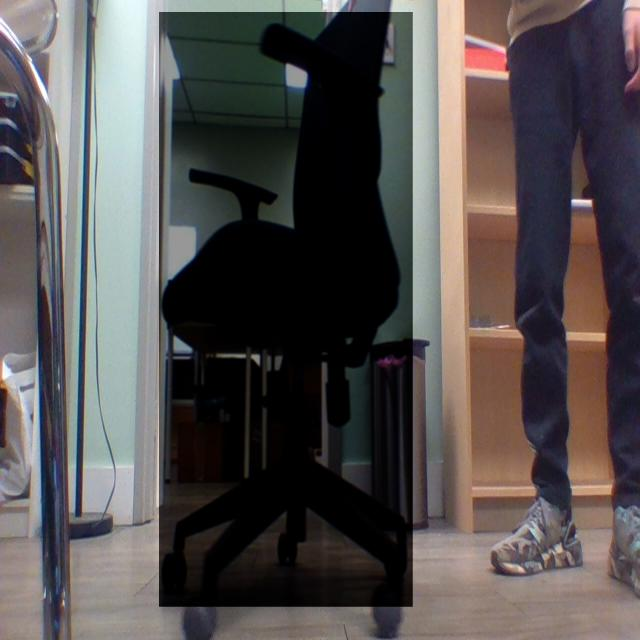black-chair: (159, 12, 414, 608)
